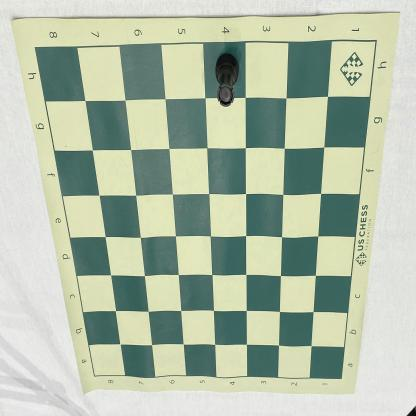black-rook: (214, 52, 240, 108)
